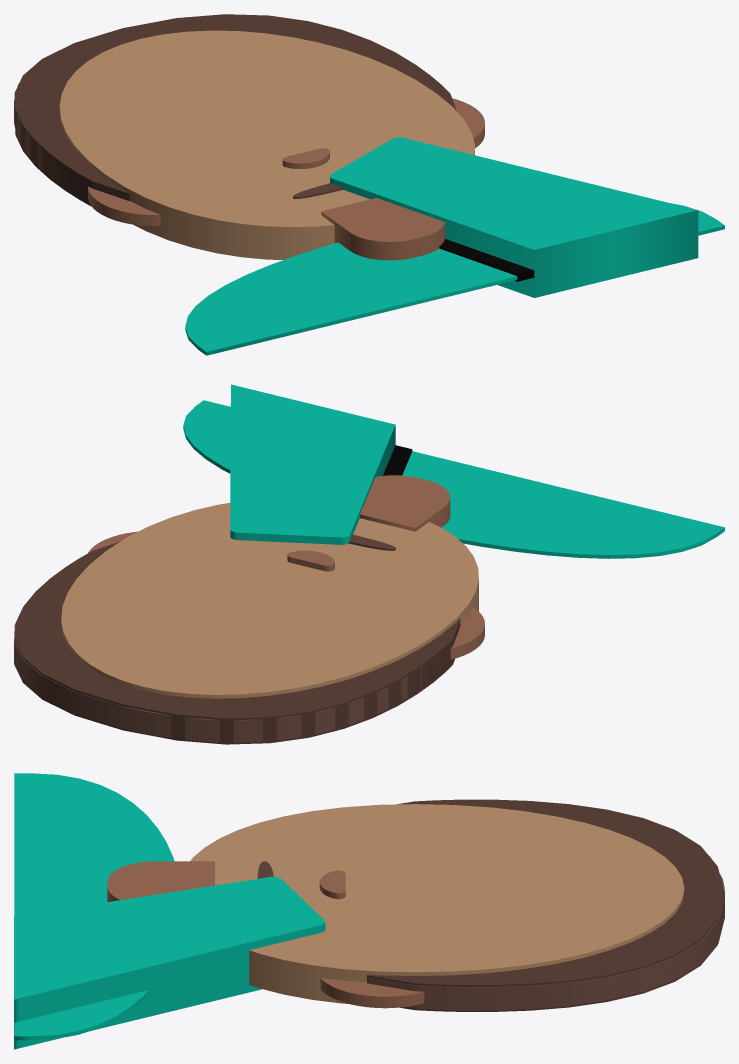
File: emoji_u1f926_1f3fd_200d_2642.glb
The picture shows the model from 3 angles, top to bottom: view 1: azimuth 30°, elevation 25°; view 2: azimuth 150°, elevation 25°; view 3: azimuth 270°, elevation 25°; orthographic projection. The views are drawn at different scales.
Parts seen in each view (by area): view 1: emoji_u1f926_1f3fd_200d_2642; view 2: emoji_u1f926_1f3fd_200d_2642; view 3: emoji_u1f926_1f3fd_200d_2642.
Boxes of the visible parts, <box> form: emoji_u1f926_1f3fd_200d_2642: <box>14,14,724,355</box>; emoji_u1f926_1f3fd_200d_2642: <box>14,384,724,744</box>; emoji_u1f926_1f3fd_200d_2642: <box>14,773,724,1049</box>.
Size of the model in its own units: 0.0294 by 0.0026 by 0.0335.
